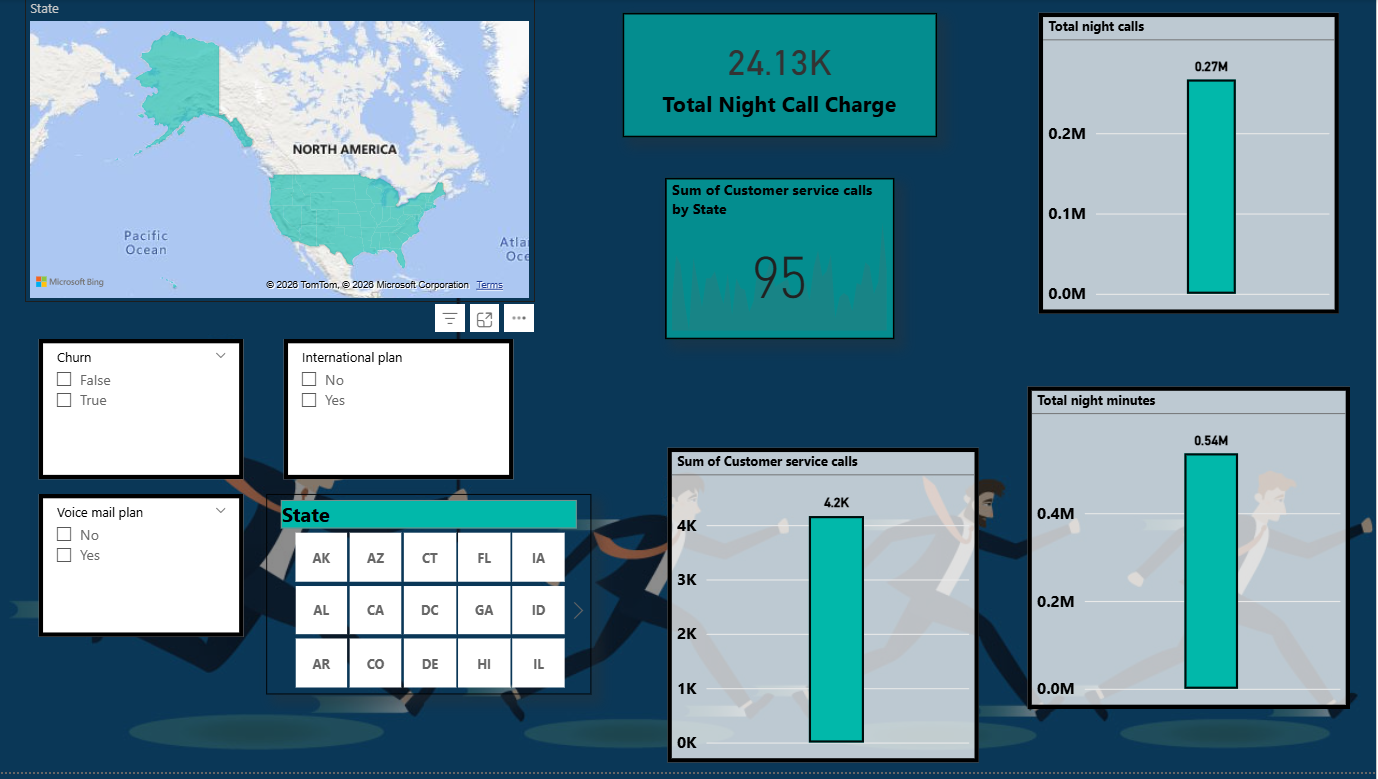

Layout of this report page (visuals, bound fields, positions):
{"tool":"powerbi","page":{"name":"Night Calls","canvas":[1280,720],"ordinal":3},"visuals":[{"type":"clusteredColumnChart","title":"Total night calls","fields":{"Y":["Sum(churn-bigml-80.Total night calls)"]},"box":[966.3,12.8,279.1,280.2],"z":0},{"type":"clusteredColumnChart","title":"Total night minutes","fields":{"Y":["Sum(churn-bigml-80.Total night minutes)"]},"box":[955.8,360.5,300,300],"z":1000},{"type":"card","fields":{"Values":["churn-bigml-80.Total Night Call Charge"]},"box":[579.1,12.8,293,116.3],"z":2000},{"type":"slicer","fields":{"Values":["churn-bigml-80.State"]},"box":[247.7,460.5,302.3,186],"z":3000},{"type":"slicer","fields":{"Values":["churn-bigml-80.Churn"]},"box":[36,316.3,190.7,130.2],"z":4000},{"type":"filledMap","fields":{"Category":["churn-bigml-80.State"]},"box":[23.3,0,474.4,282.6],"z":5000},{"type":"slicer","fields":{"Values":["churn-bigml-80.International plan"]},"box":[264,316.3,214,130.2],"z":6000},{"type":"slicer","fields":{"Values":["churn-bigml-80.Voice mail plan"]},"box":[36,460.5,190.7,132.6],"z":7000},{"type":"clusteredColumnChart","fields":{"Y":["Sum(churn-bigml-80.Customer service calls)"]},"box":[620.9,417.4,289.5,293],"z":8000},{"type":"kpi","fields":{"Indicator":["Sum(churn-bigml-80.Customer service calls)"],"TrendLine":["churn-bigml-80.State"]},"box":[618.6,166.3,214,150],"z":8001}]}

Visuals, with their boxes in screenshot pixels (x1, y1, x2, y2), scaled from the page's 1280x720 canvas onto the 1378x779 screenshot:
"Total night calls" clusteredColumnChart: Rect(1040, 14, 1341, 317)
"Total night minutes" clusteredColumnChart: Rect(1029, 390, 1352, 715)
card - churn-bigml-80.Total Night Call Charge: Rect(623, 14, 939, 140)
slicer - churn-bigml-80.State: Rect(267, 498, 592, 699)
slicer - churn-bigml-80.Churn: Rect(39, 342, 244, 483)
filledMap - churn-bigml-80.State: Rect(25, 0, 536, 306)
slicer - churn-bigml-80.International plan: Rect(284, 342, 515, 483)
slicer - churn-bigml-80.Voice mail plan: Rect(39, 498, 244, 642)
clusteredColumnChart - Sum(churn-bigml-80.Customer service calls): Rect(668, 452, 980, 769)
kpi - Sum(churn-bigml-80.Customer service calls) x churn-bigml-80.State: Rect(666, 180, 896, 342)
